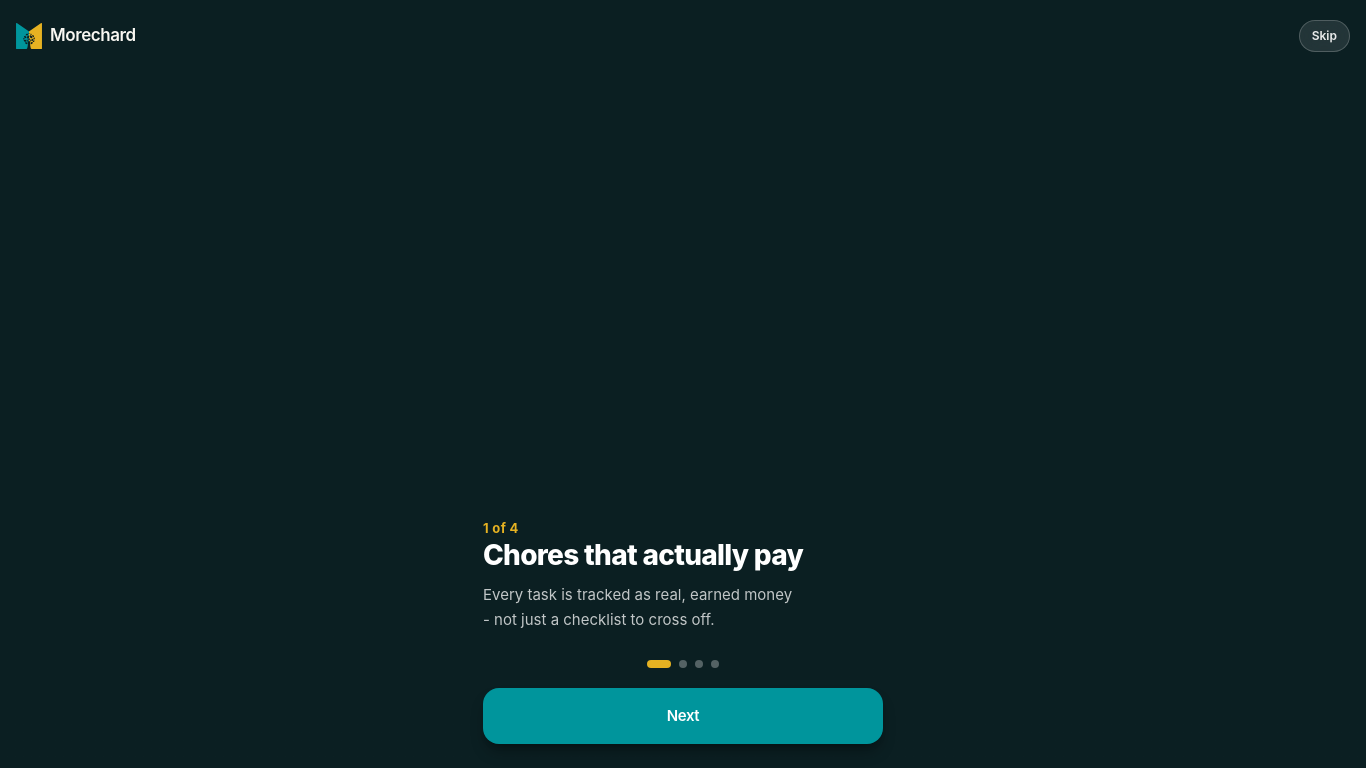
Test: OnboardingCarousel › advances to the next slide when Next is tapped
This screenshot has width=1366, height=768.
Click the button "Next".
click(683, 716)  # box [483,688,883,744]
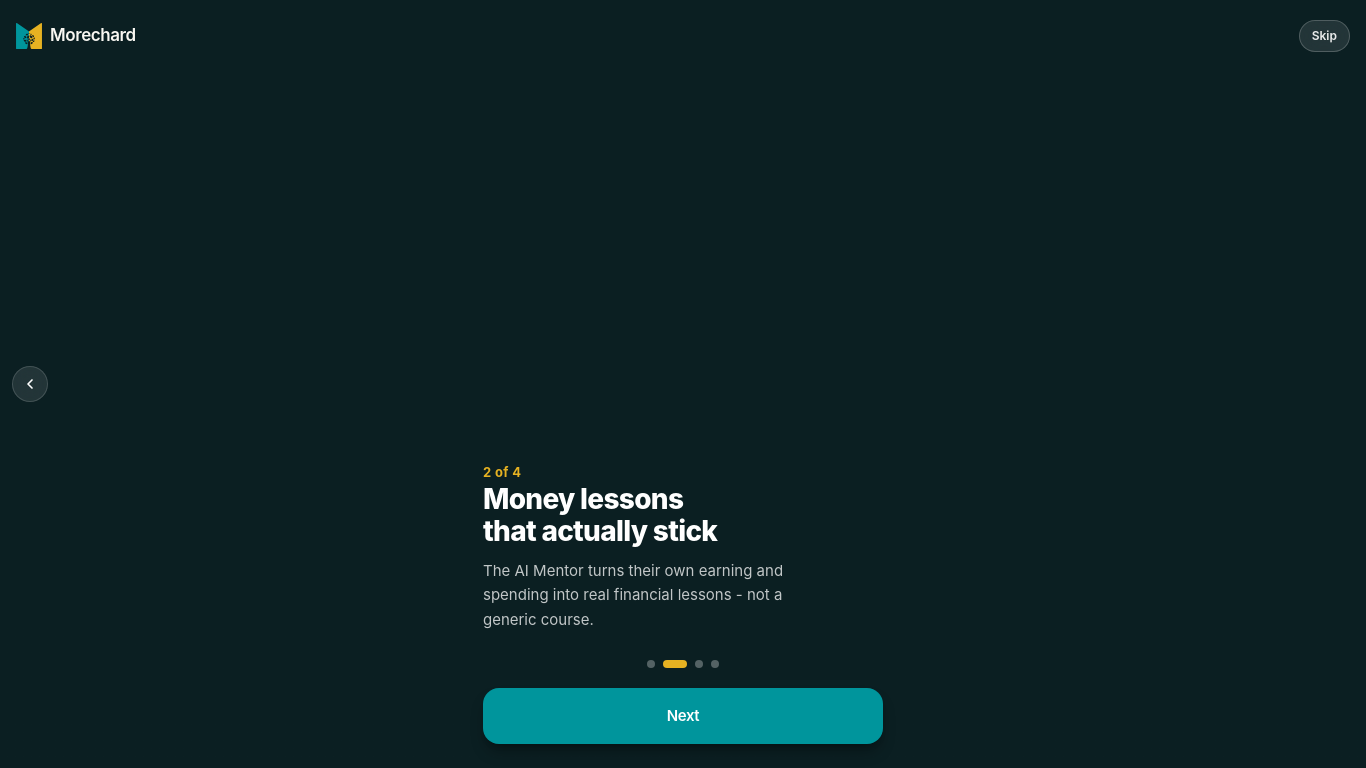
Expected: the heading "Money lessons that actually stick" is shown, [483,482,717,548]
